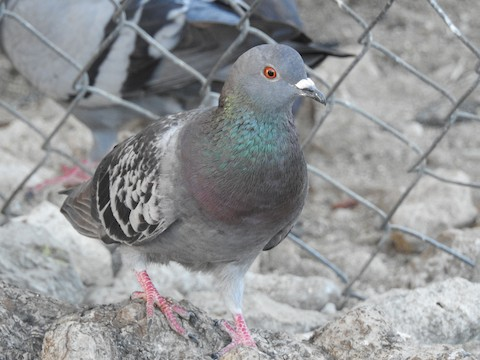pigeon: (47, 39, 334, 348)
